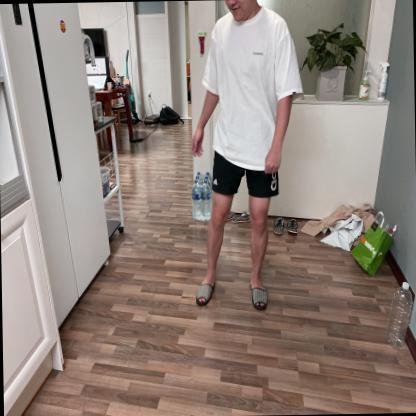no_safety-shoe: (240, 271, 272, 315), (192, 272, 223, 314)
